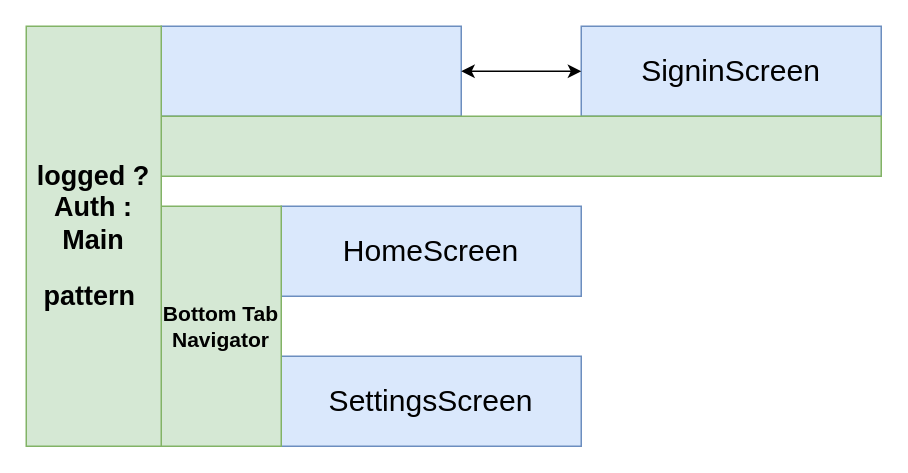
This 908x473 diagram has some shape labels left out. Each missing label, with the box of its shape:
SignupScreen: (160, 25, 461, 116)
Stack Navigator: (160, 115, 881, 176)
